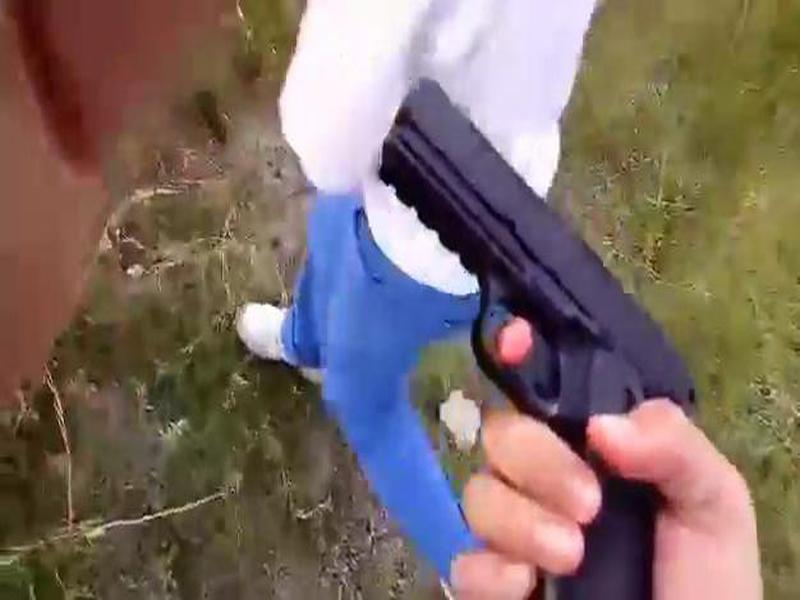Pistola: (372, 64, 700, 600)
